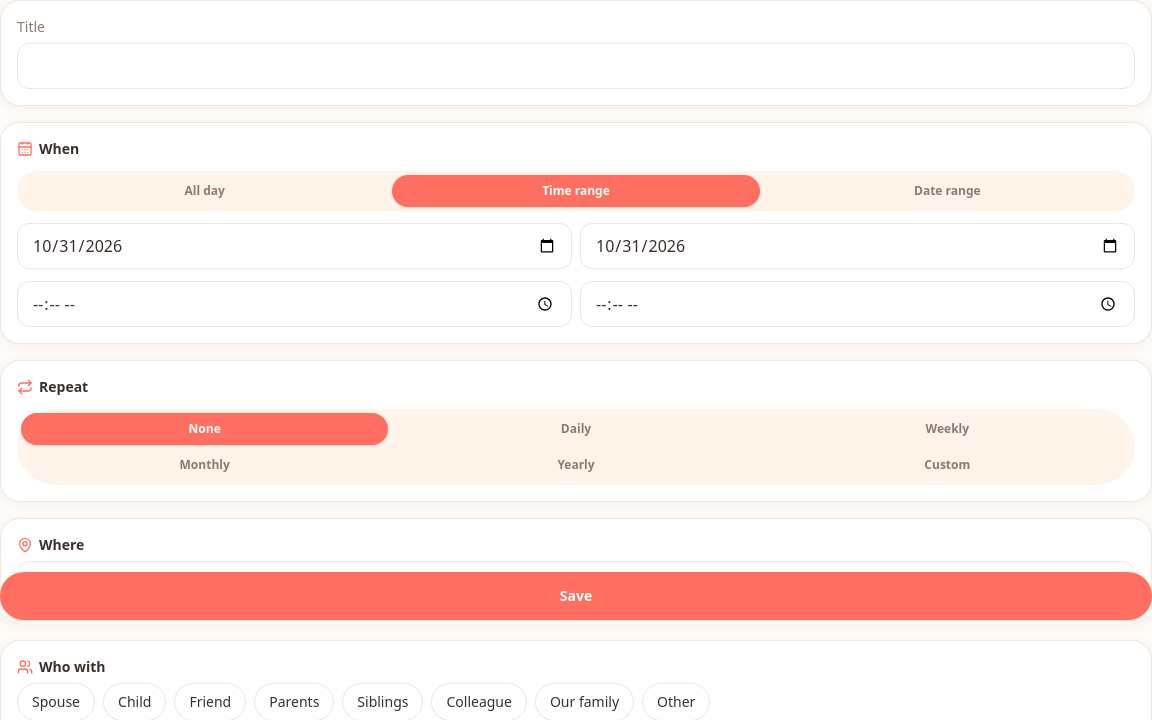
Test: EventForm repeat section › shows the 종료 sub-choice once a frequency other than 'None' is picked
Click the radio button labelled "Daily": [576, 428] box [561,420,591,437]
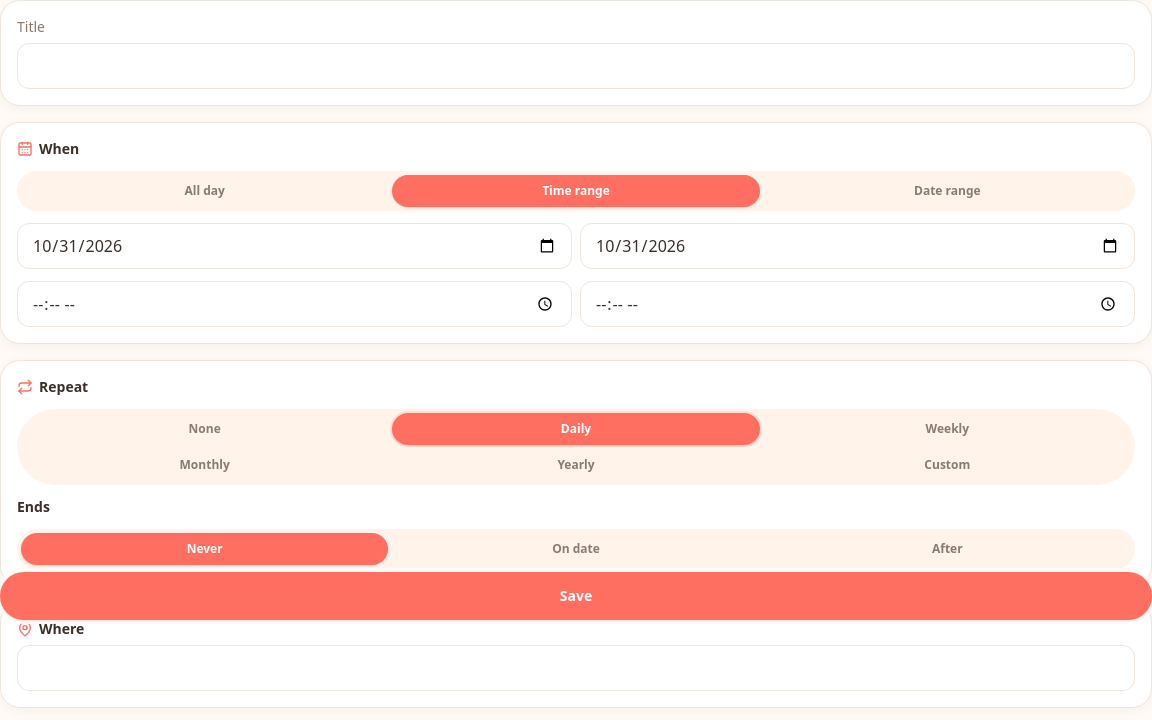
Expected: the text "Ends" is shown, [17,497,50,516]
Expected: the radio button labelled "Never" is checked, [21,533,388,565]
